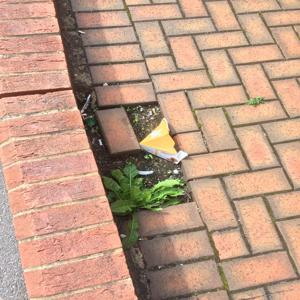paper: (139, 118, 193, 167)
